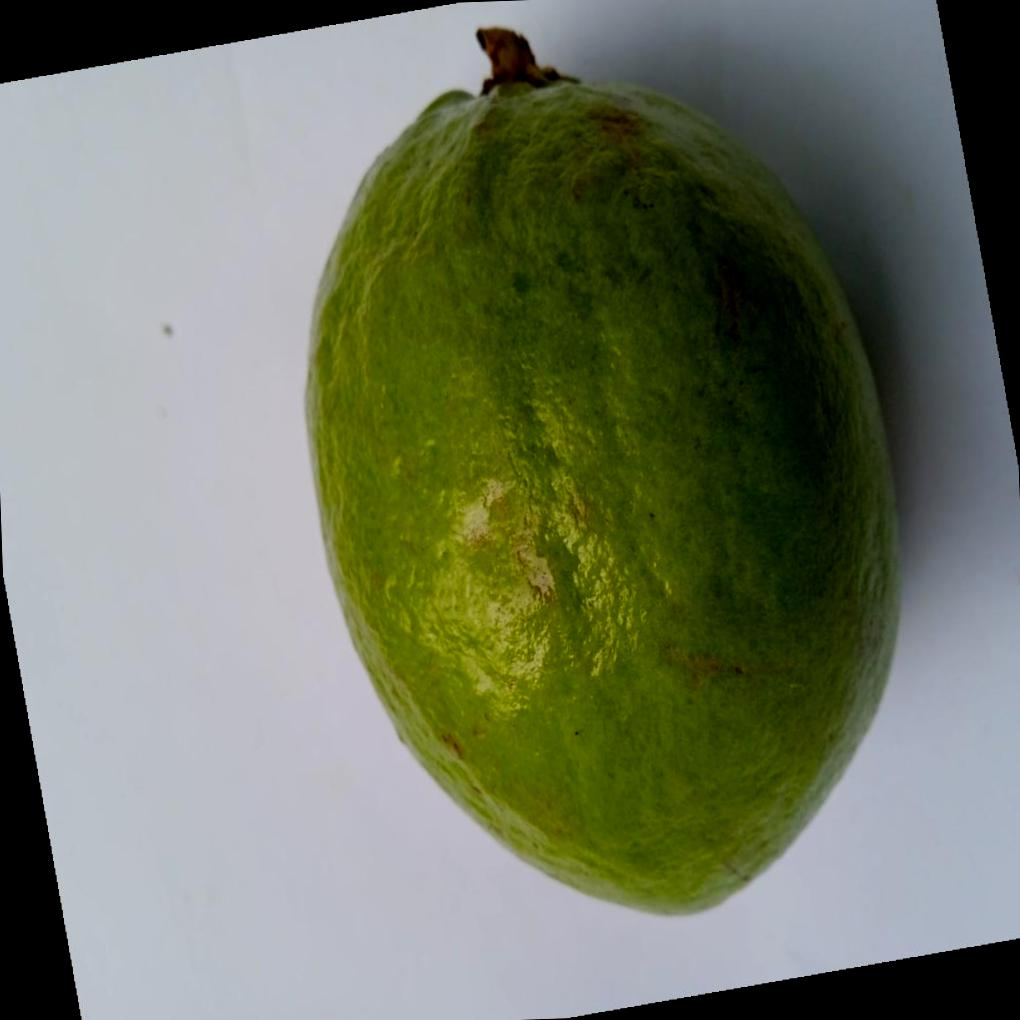FreshGuava: (302, 37, 903, 915)
